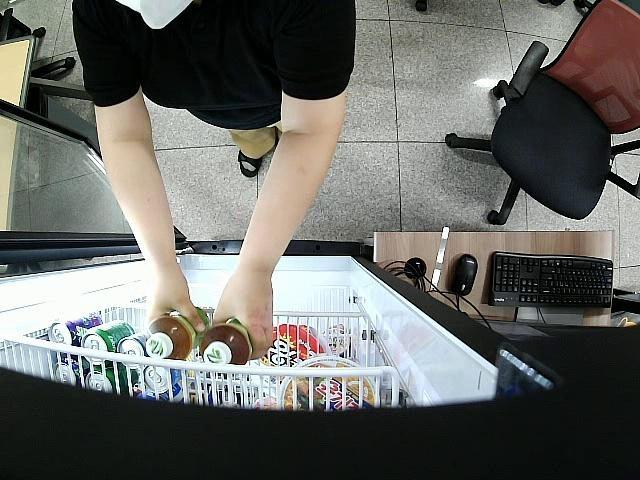19_17cha: (144, 308, 204, 358), (201, 314, 250, 368)
